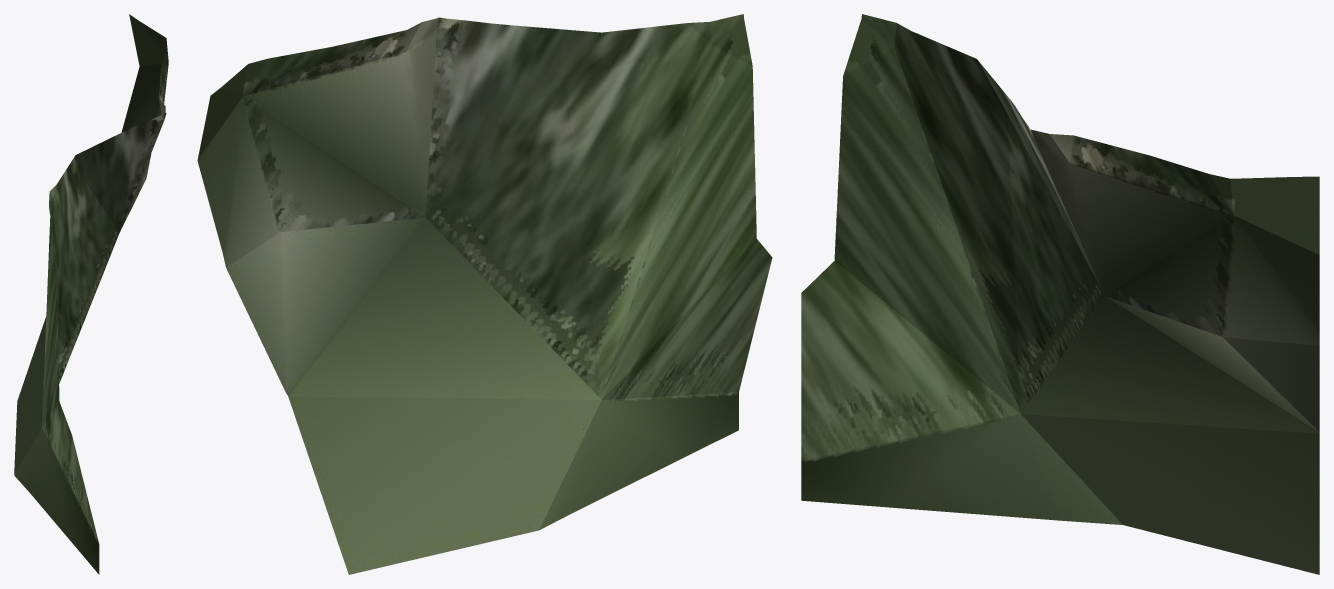
3 renders of one model, left to right at view 1: azimuth 30°, elevation 25°; view 2: azimuth 150°, elevation 25°; view 3: azimuth 270°, elevation 25°, orthographic. The views are drawn at different scales.
Bounding box in the file's own units: 2.28 × 2.95 × 2.95.
Materials: 4 (4 with a texture image).
